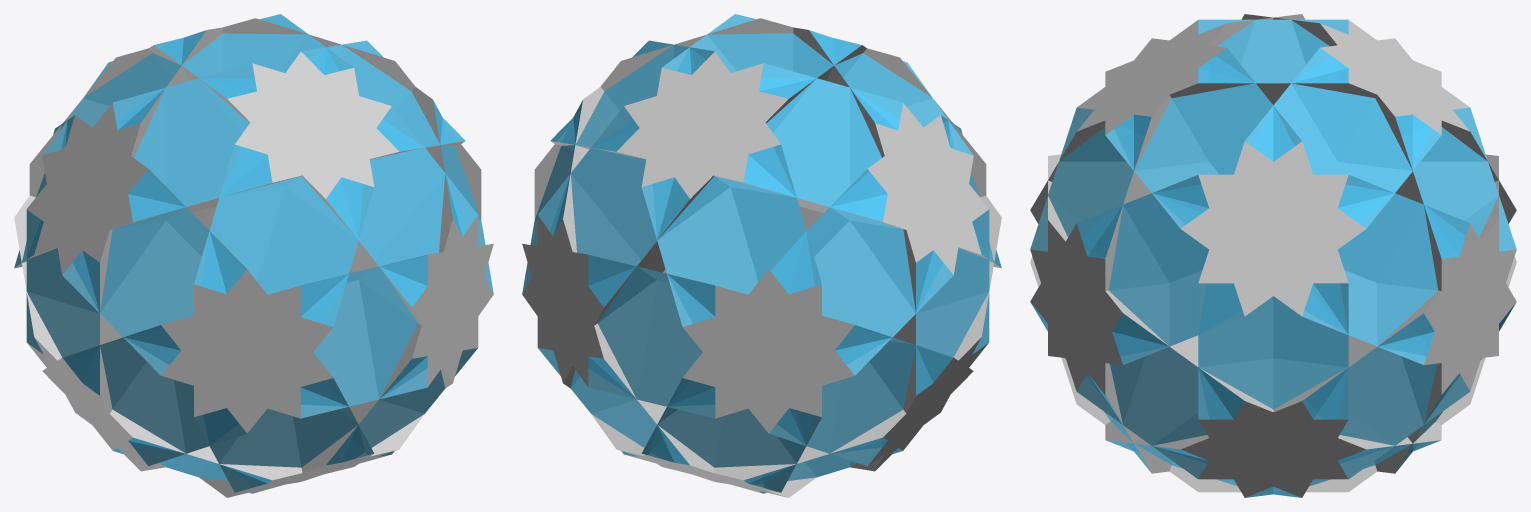
Rendered from TruncatedDodecadodecahedron.obj.
3 views of the same model, side by side, from view 1: azimuth 30°, elevation 25°; view 2: azimuth 150°, elevation 25°; view 3: azimuth 270°, elevation 25° (orthographic). The views are drawn at different scales.
Bounding box in the file's own units: 3.24 × 3.24 × 3.24.
